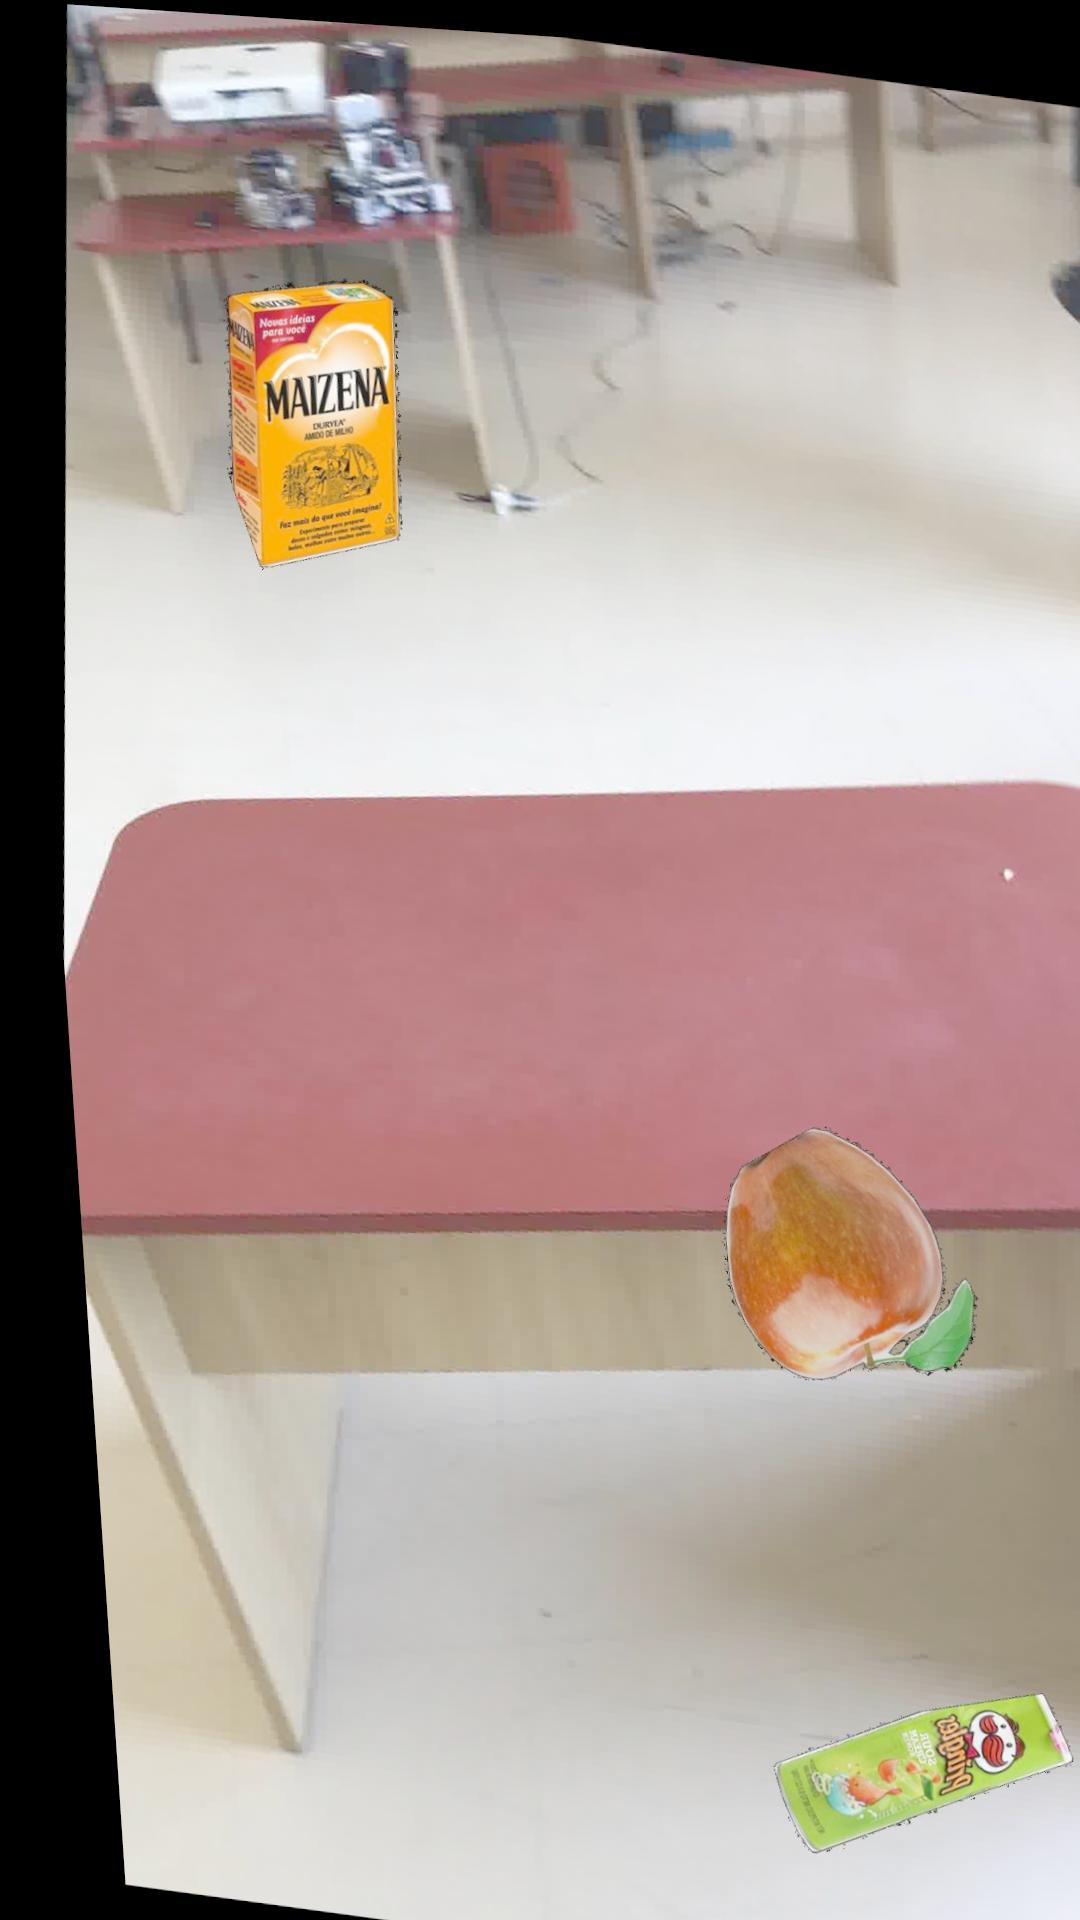apple: (708, 1114, 960, 1367)
pringles: (749, 1677, 1050, 1841)
